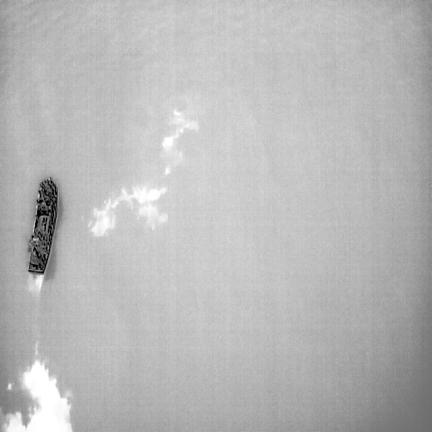flukeprints: (88, 186, 166, 236), (161, 111, 198, 176)
